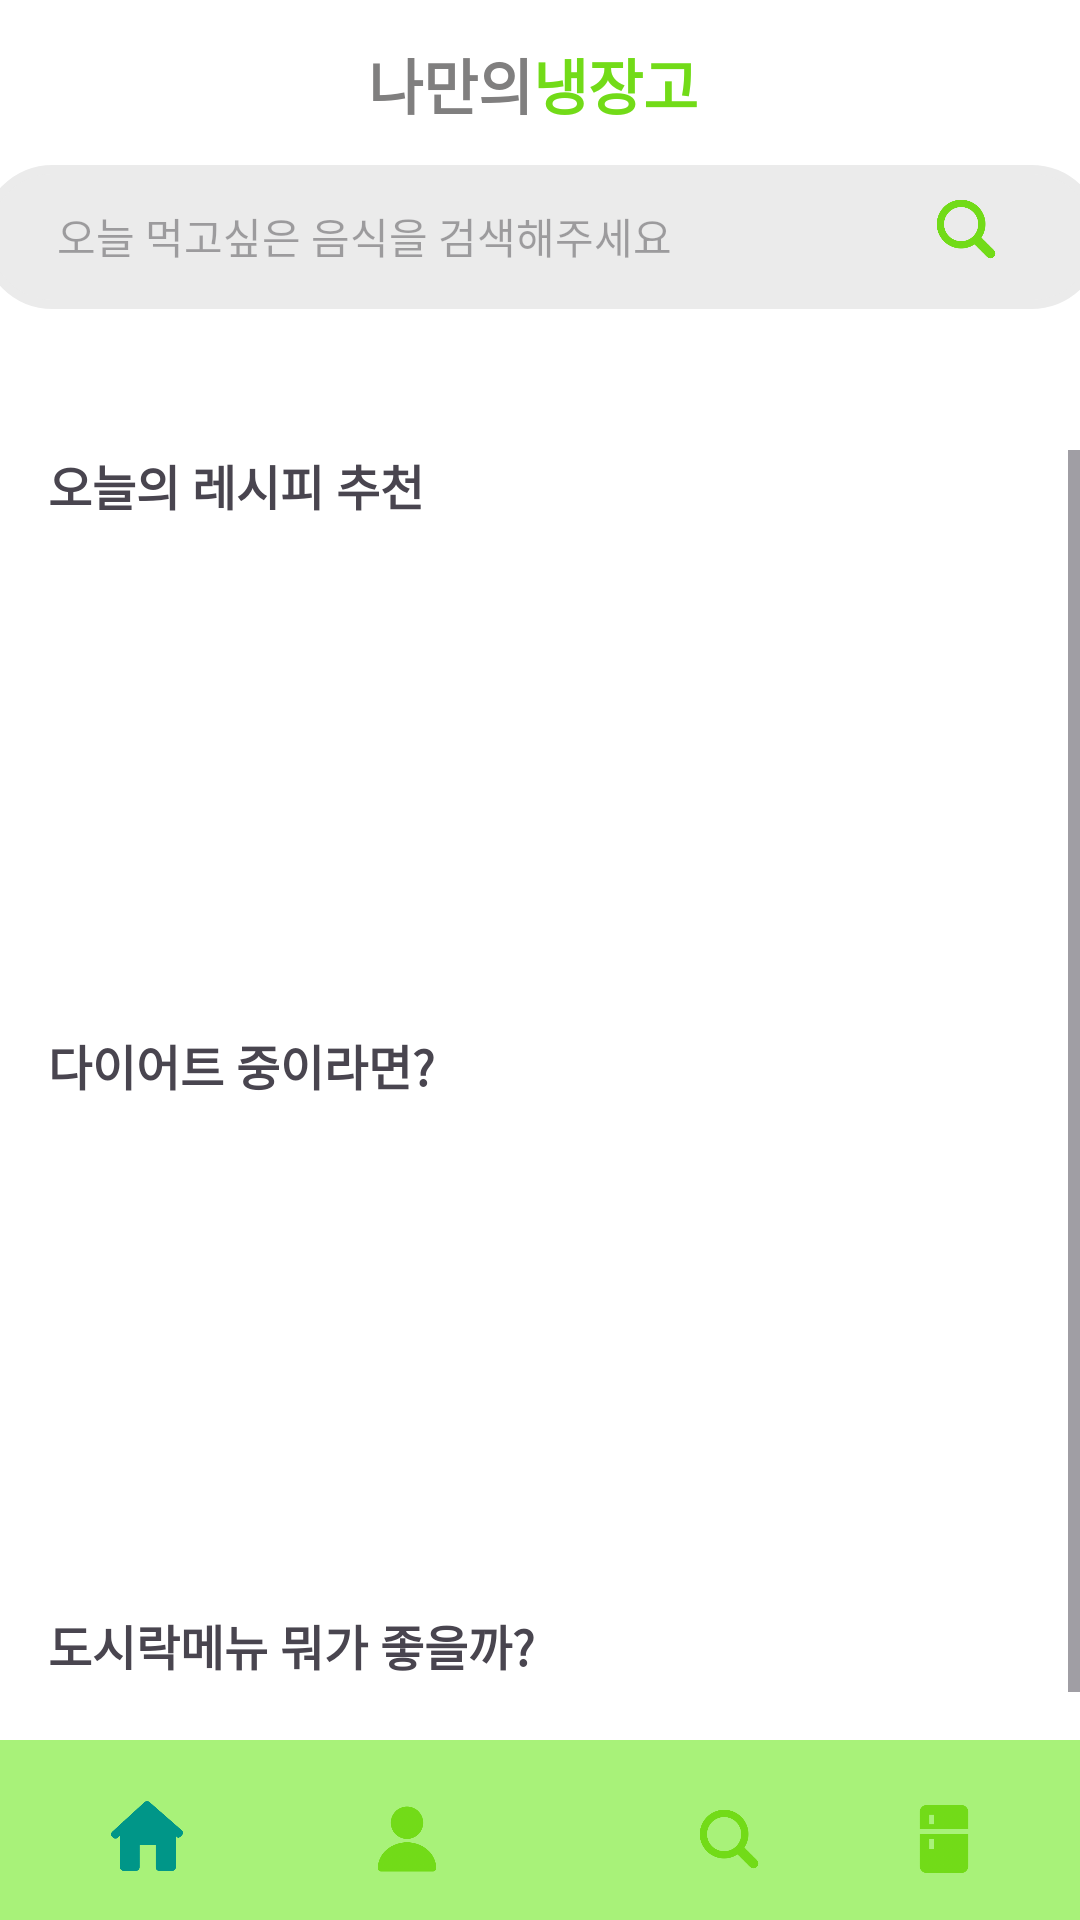

Locate icon controls on the screen. Image size 1080px x 1920px, boxes as detection(x1, y1, x2, y2).
home: detection(111, 1801, 183, 1871)
mypage: detection(378, 1806, 436, 1872)
search: detection(937, 200, 995, 258), detection(700, 1810, 758, 1868)
